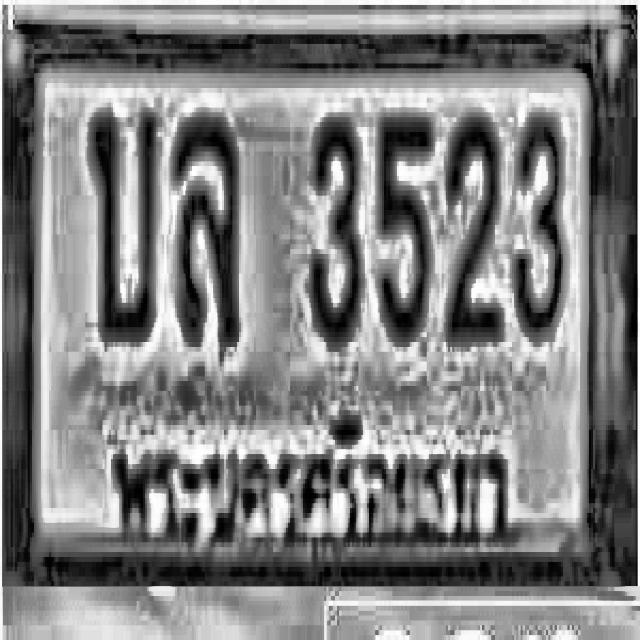license-plate: (13, 34, 640, 584)
